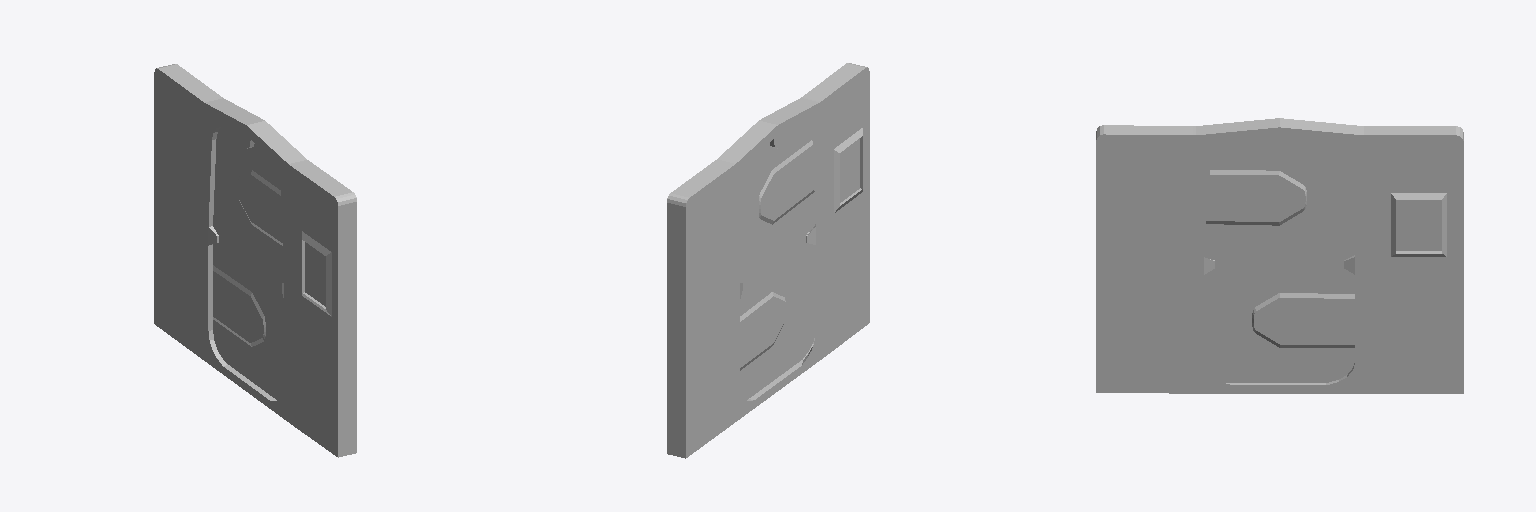
File: Science Door2.obj
3 views of the same model, side by side, from view 1: azimuth 30°, elevation 25°; view 2: azimuth 150°, elevation 25°; view 3: azimuth 270°, elevation 25° (orthographic).
Parts seen in each view (by area): view 1: Doorframe; view 2: Doorframe; view 3: Doorframe.
Part boxes in pixels (left/top/right/bottom): Doorframe: left=154, top=64, right=356, bottom=457; Doorframe: left=667, top=63, right=869, bottom=458; Doorframe: left=1096, top=118, right=1463, bottom=393.
Bounding box in the file's own units: 0.6208 × 6.27 × 7.84.